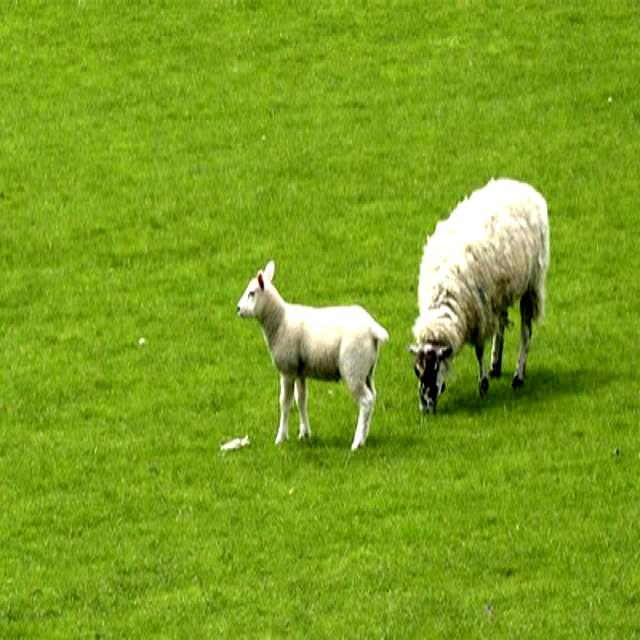sheep: (409, 181, 550, 421), (236, 259, 389, 447)
